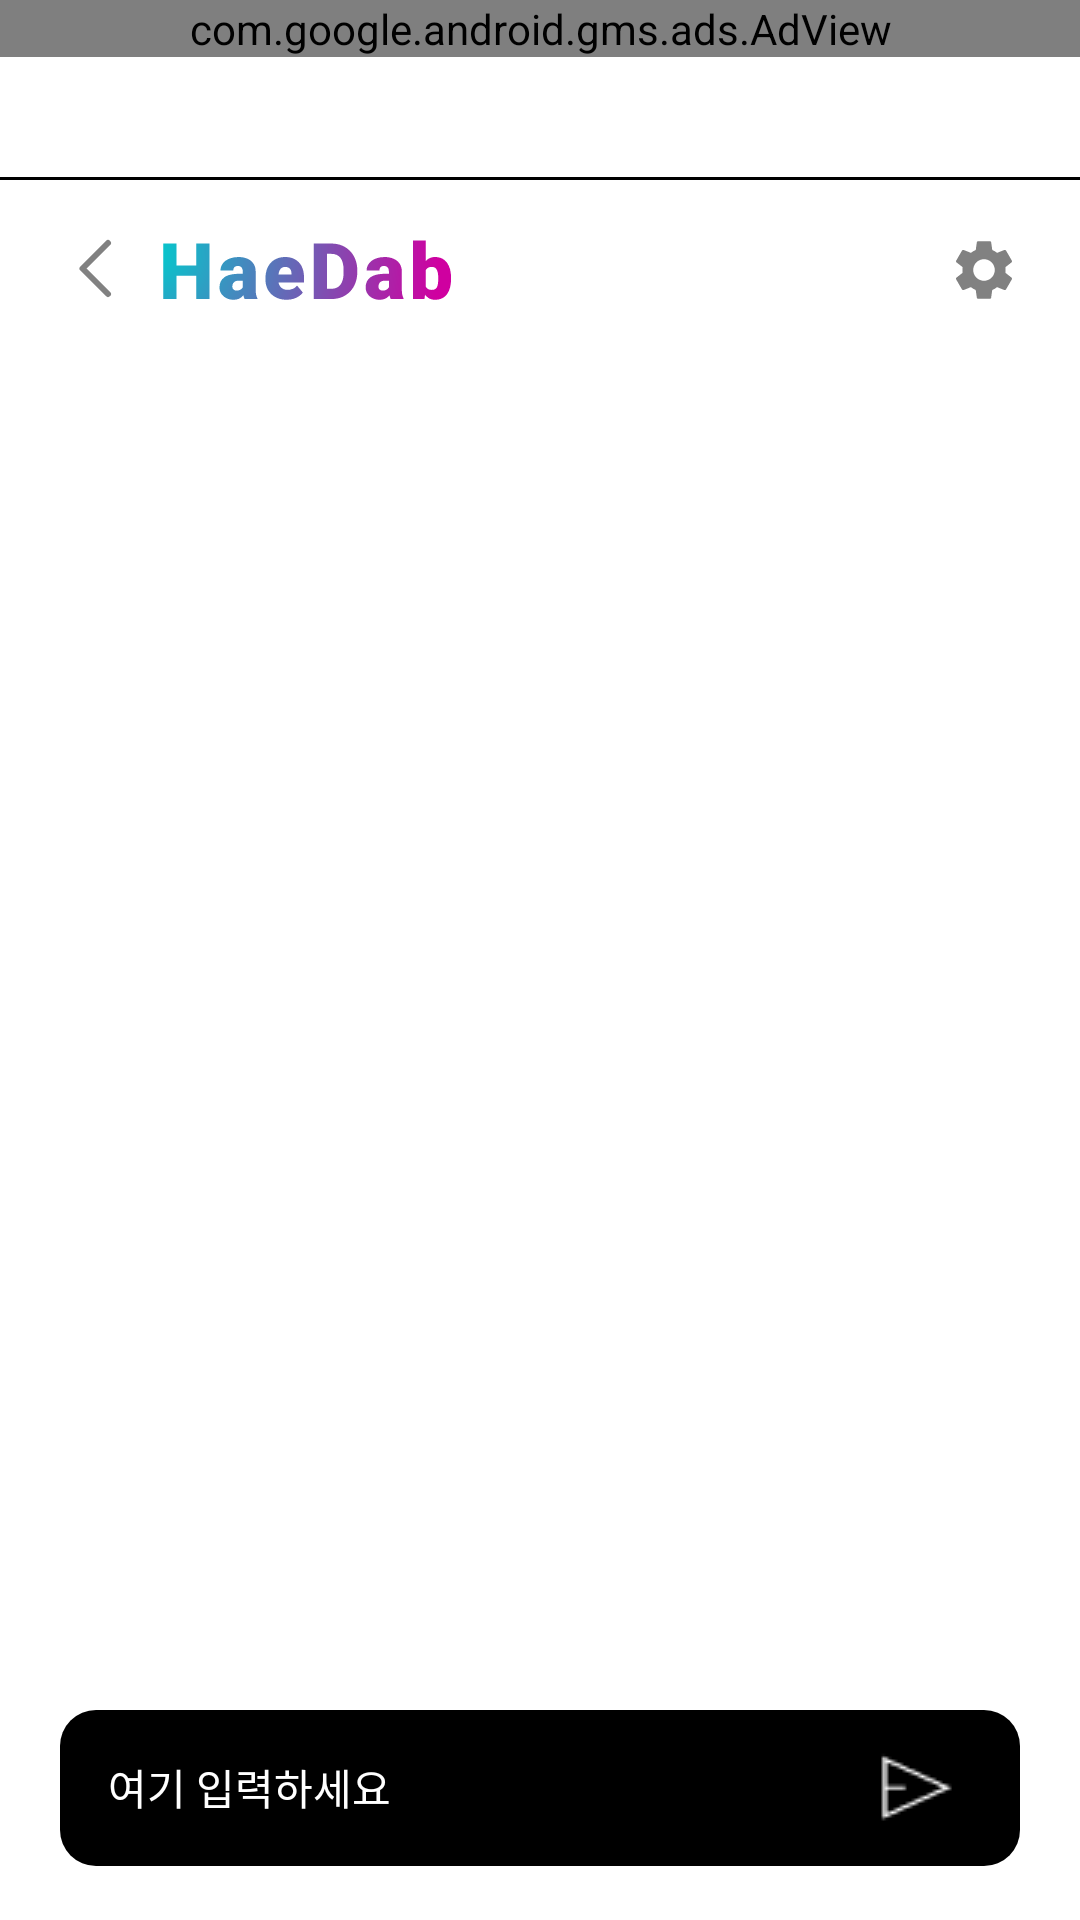

Locate icon controls on the screen. Image size 1080 × 1920, boxes as (x1, y1, x2, y2).
back: (79, 240, 111, 297)
send: (881, 1756, 952, 1821)
setting: (956, 241, 1012, 299)
